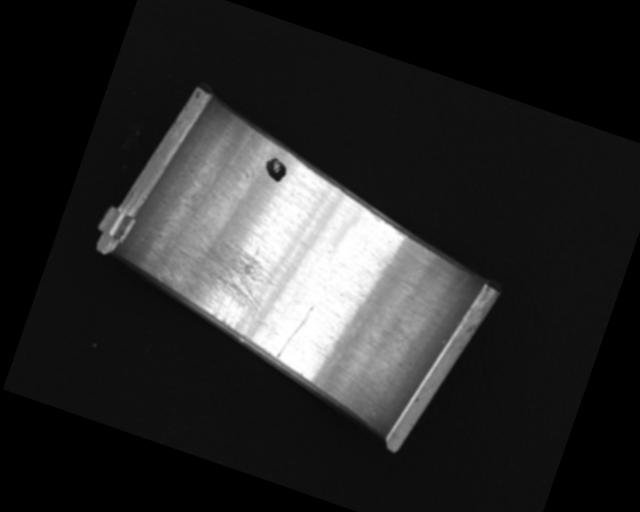blot: (260, 155, 290, 184)
nick: (397, 257, 470, 359), (276, 297, 317, 364)
scratch: (147, 220, 280, 342)
